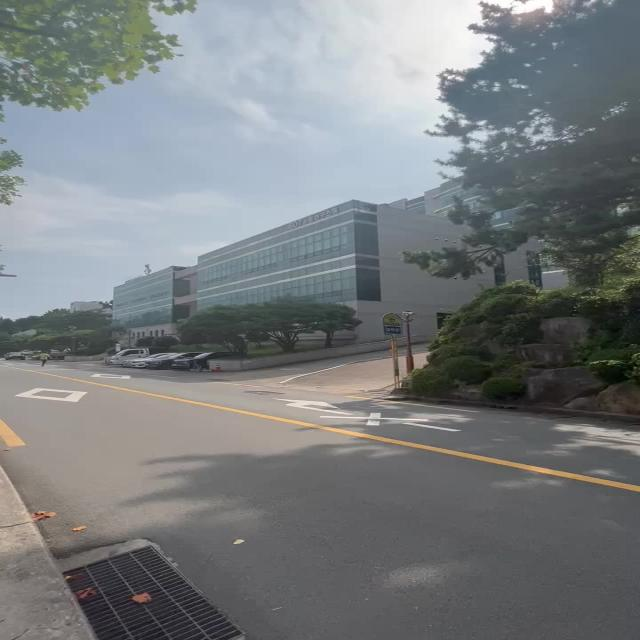building: (108, 189, 434, 313)
